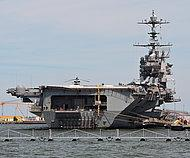MIL_Ship: (5, 8, 181, 130)
